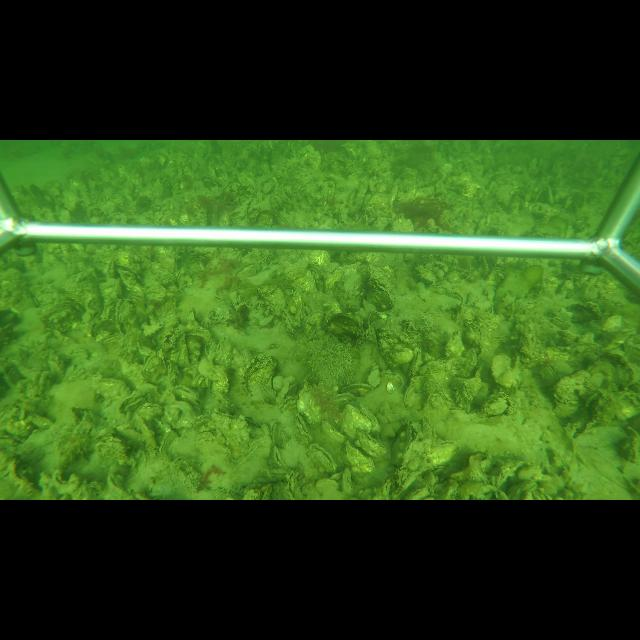Oyster-Closed: (392, 420, 420, 494), (210, 408, 251, 458), (549, 366, 593, 412), (294, 376, 325, 430), (181, 324, 218, 364), (88, 373, 134, 404), (476, 388, 521, 419), (253, 282, 288, 321), (159, 326, 190, 370), (96, 276, 126, 318), (137, 350, 171, 386), (168, 382, 206, 414), (245, 356, 278, 392), (112, 297, 144, 334), (491, 353, 521, 389), (344, 442, 376, 475), (342, 404, 379, 432), (420, 388, 458, 414), (358, 430, 388, 459), (366, 280, 395, 310), (302, 306, 327, 340), (307, 444, 337, 472), (419, 373, 447, 402), (327, 313, 359, 336), (264, 444, 288, 473), (157, 429, 178, 462), (118, 391, 148, 414), (376, 330, 394, 366), (294, 411, 312, 444), (258, 381, 280, 405), (266, 417, 281, 447), (381, 370, 406, 387), (339, 382, 373, 394), (408, 346, 422, 375), (100, 257, 116, 280), (285, 471, 298, 499), (342, 468, 355, 494)
Oyster-Open: (114, 262, 146, 291), (366, 308, 388, 330)
